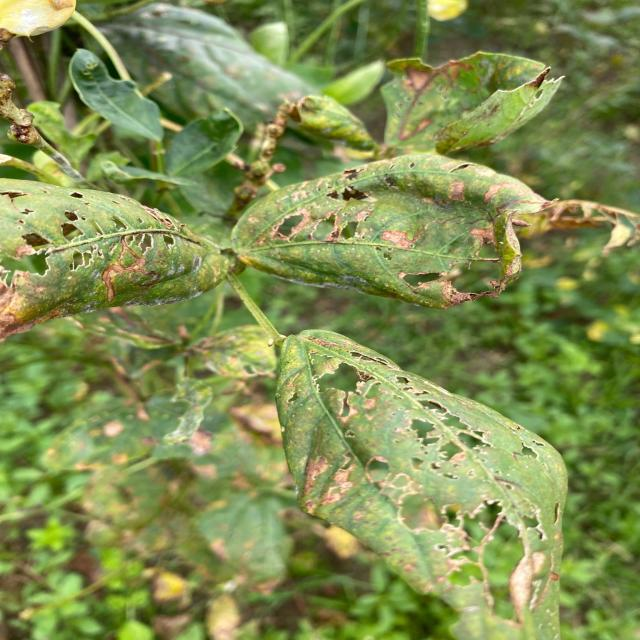leaf-moderate: (276, 330, 567, 640), (232, 153, 640, 308), (0, 179, 225, 339), (380, 51, 564, 154)
